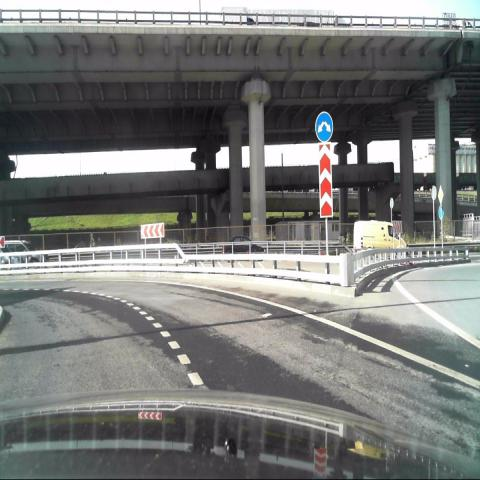4_2_3: (314, 109, 334, 143)
